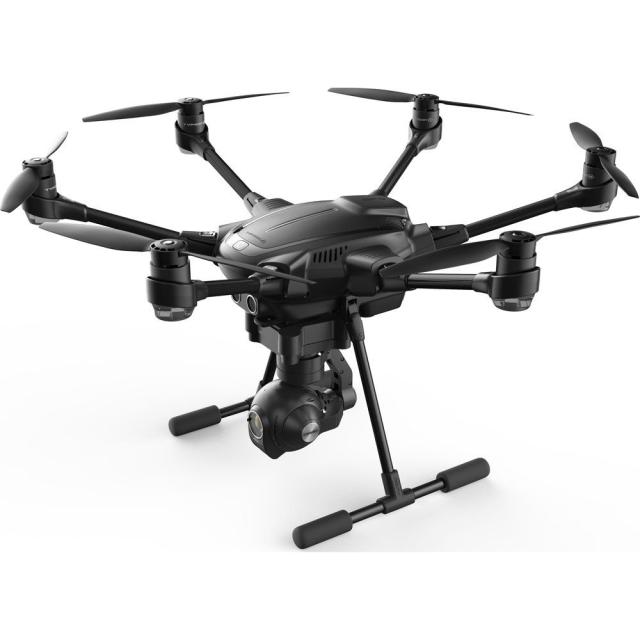drone: (0, 55, 640, 542)
